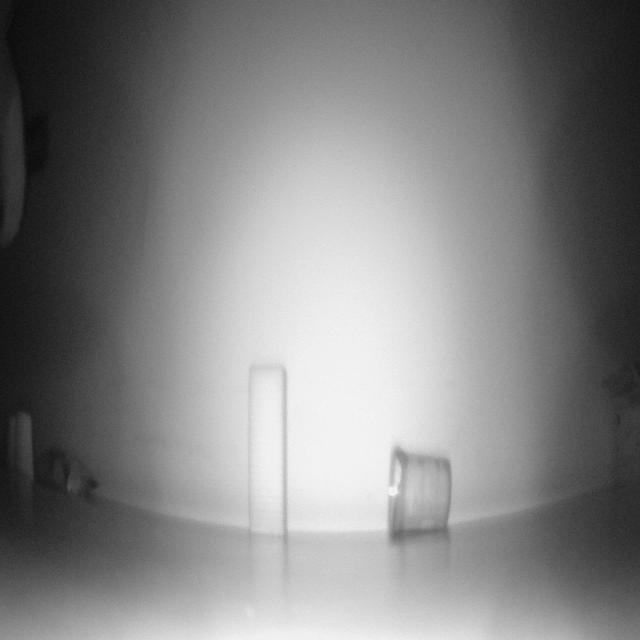targets: (247, 370, 291, 538), (390, 443, 452, 533), (601, 366, 640, 484), (42, 440, 98, 504), (10, 402, 35, 485)
